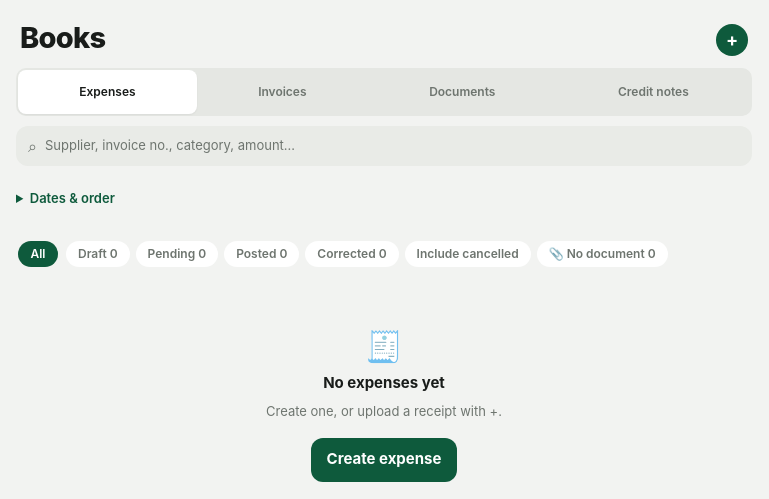
Test: BooksScreen › defaults to Expenses and switches segments via ?seg=
This screenshot has width=769, height=499.
Check: the heading "Books" is shown, box x1=20 y1=16 x2=105 y2=60
Check: the radio button labelled "Expenses" is checked, box x1=18 y1=70 x2=197 y2=114
Click the radio button labelled "Documents". click: (462, 92)
box: x1=429 y1=84 x2=495 y2=99
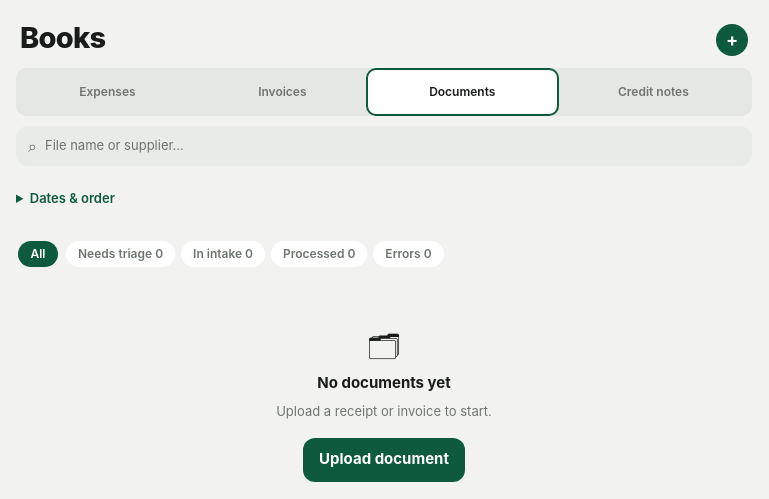
Check: the text "No documents yet" is shown, box x1=317 y1=372 x2=451 y2=394
